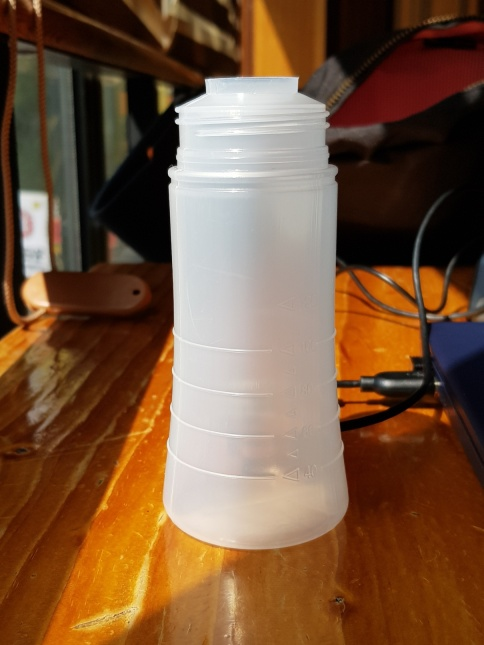Plastic: (158, 65, 352, 558)
